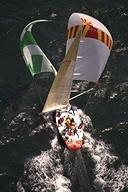sailboat: (18, 10, 115, 154)
water: (2, 152, 127, 190), (2, 81, 33, 191)
